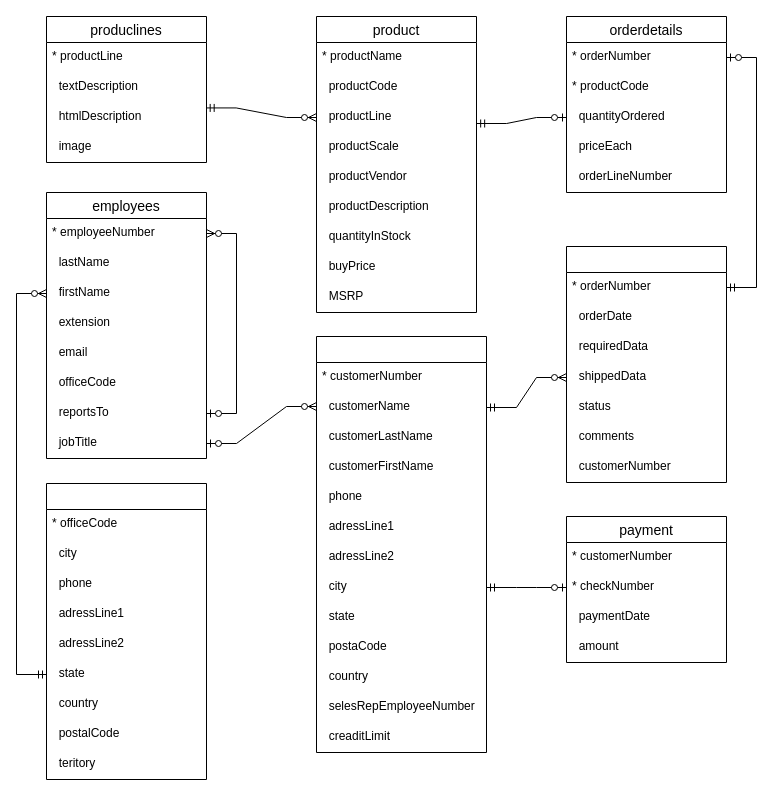
Image size: 773x796. Some labels were removed from this diagram. The box of each missing label's shape, as (x1, y1, x2, y2) in pixels:
customers: (316, 336, 486, 752)
offices: (46, 482, 206, 780)
orders: (566, 246, 726, 482)
